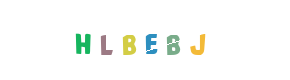B: (105, 0, 185, 80), (118, 0, 198, 80)
E: (110, 0, 190, 80)
H: (43, 0, 123, 80)
J: (122, 0, 202, 80)
L: (64, 0, 144, 80)
